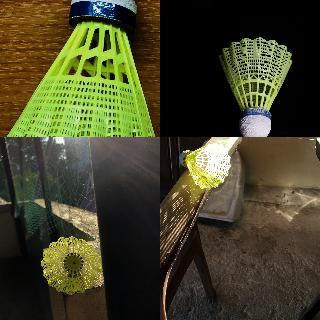shuttlecock: (0, 0, 159, 136), (217, 37, 292, 136), (41, 236, 101, 294), (178, 143, 230, 189)
